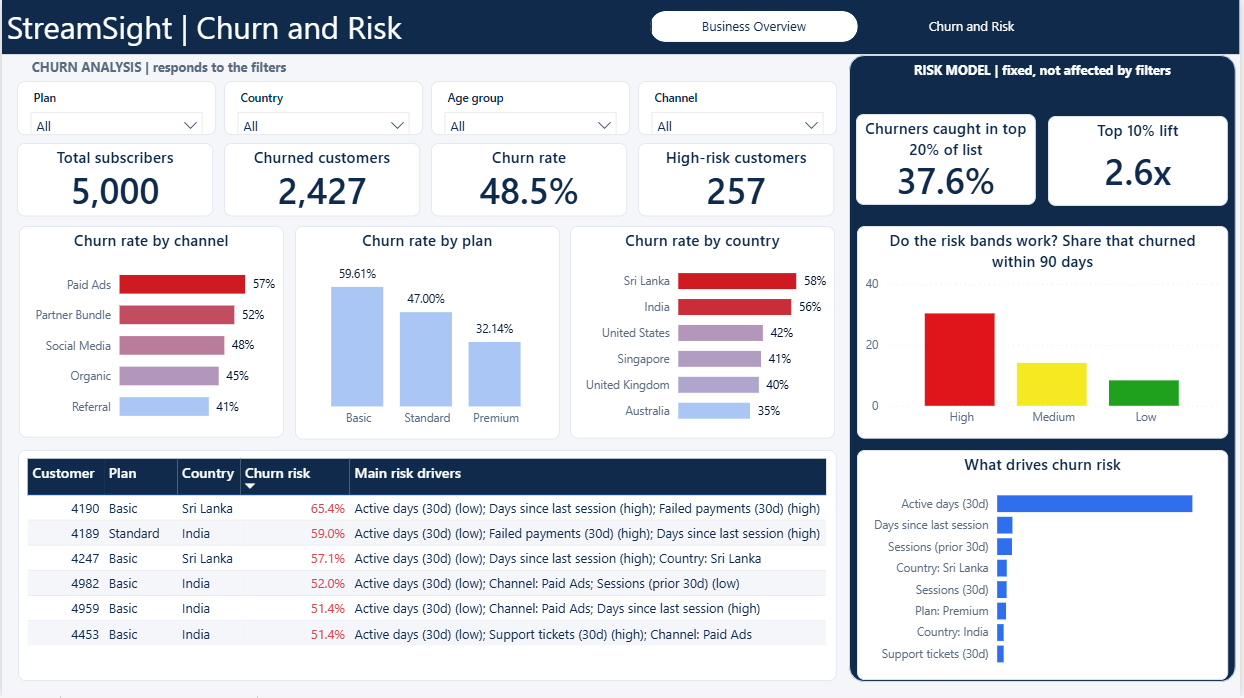

The page's visual inventory and layout, read from the dashboard file:
{"tool":"powerbi","page":{"name":"Churn and Risk","canvas":[1280,720],"ordinal":1},"visuals":[{"type":"textbox","box":[0,0,1280,55.7],"z":0},{"type":"shape","box":[875.9,57.2,400.1,648.6],"z":1000},{"type":"pageNavigator","box":[670,11.4,440,32.9],"z":2000},{"type":"textbox","box":[25.7,55.7,300,32.9],"z":3000},{"type":"textbox","box":[875.7,58.6,400,32.9],"z":4000},{"type":"slicer","fields":{"Values":["vw_subscriber_base.plan_name"]},"box":[16,84,206,56],"z":5000},{"type":"slicer","fields":{"Values":["vw_subscriber_base.country"]},"box":[230,84,206,56],"z":6000},{"type":"slicer","fields":{"Values":["vw_subscriber_base.age_group"]},"box":[444,84,206,56],"z":7000},{"type":"slicer","fields":{"Values":["vw_subscriber_base.acquisition"]},"box":[658,84,206,56],"z":8000},{"type":"card","title":"Total subscribers","fields":{"Values":["vw_subscriber_base.Total Subscribers"]},"box":[16,148,203,76],"z":9000},{"type":"card","title":"Churned customers","fields":{"Values":["vw_subscriber_base.Churned Customers"]},"box":[229.9,148,203,76],"z":10000},{"type":"card","title":"Churn rate","fields":{"Values":["vw_subscriber_base.Churn Rate"]},"box":[443.9,148,203,76],"z":11000},{"type":"card","title":"High-risk customers","fields":{"Values":["vw_churn_risk.High Risk Customers"]},"box":[657.9,148,203,76],"z":12000},{"type":"card","title":"Churners caught in top 20% of list","fields":{"Values":["Sum(vw_model_metrics_latest.recall_top20)"]},"box":[883.9,118.3,186.1,94.4],"z":13000},{"type":"card","title":"Top 10% lift","fields":{"Values":["Sum(vw_model_metrics_latest.lift_top10)"]},"box":[1082,119.6,186.1,93],"z":14000},{"type":"clusteredColumnChart","title":"Churn rate by plan","fields":{"Category":["vw_subscriber_base.plan_name"],"Y":["vw_subscriber_base.Churn Rate"]},"box":[303.1,233.9,273.8,220.6],"z":15000},{"type":"clusteredBarChart","title":"Churn rate by country","fields":{"Category":["vw_subscriber_base.country"],"Y":["vw_subscriber_base.Churn Rate"]},"box":[588,234,274,220],"z":16000},{"type":"tableEx","fields":{"Values":["vw_churn_risk.subscriber_id","vw_churn_risk.plan_name","vw_churn_risk.country","vw_churn_risk.churn_probability","vw_churn_risk.top_drivers"]},"box":[16.8,465.3,846.6,238.5],"z":17000},{"type":"clusteredBarChart","title":"Churn rate by channel","fields":{"Y":["vw_subscriber_base.Churn Rate"],"Category":["vw_subscriber_base.acquisition"]},"box":[17.3,233.9,273.8,219.3],"z":18000},{"type":"clusteredColumnChart","title":"Do the risk bands work? Share that churned within 90 days","fields":{"Category":["vw_band_performance_latest.risk_band"],"Y":["Sum(vw_band_performance_latest.actual_churn_pct)"]},"box":[884,234,384,220],"z":18001},{"type":"clusteredBarChart","title":"What drives churn risk","fields":{"Category":["vw_feature_importance_latest.readable_name"],"Y":["Sum(vw_feature_importance_latest.auc_drop)"]},"box":[884,466,384,238],"z":18002}]}

Visuals, with their boxes in screenshot pixels (x1, y1, x2, y2), scaled from the page's 1280x720 canvas onto the 1244x698 screenshot:
textbox: 0 0 1243 54
shape: 851 55 1240 684
pageNavigator: 651 11 1079 43
textbox: 25 54 317 86
textbox: 851 57 1240 89
slicer - vw_subscriber_base.plan_name: 16 81 216 136
slicer - vw_subscriber_base.country: 224 81 424 136
slicer - vw_subscriber_base.age_group: 432 81 632 136
slicer - vw_subscriber_base.acquisition: 639 81 840 136
"Total subscribers" card: 16 143 213 217
"Churned customers" card: 223 143 421 217
"Churn rate" card: 431 143 629 217
"High-risk customers" card: 639 143 837 217
"Churners caught in top 20% of list" card: 859 115 1040 206
"Top 10% lift" card: 1052 116 1232 206
"Churn rate by plan" clusteredColumnChart: 295 227 561 441
"Churn rate by country" clusteredBarChart: 571 227 838 440
tableEx - vw_churn_risk.subscriber_id x vw_churn_risk.plan_name: 16 451 839 682
"Churn rate by channel" clusteredBarChart: 17 227 283 439
"Do the risk bands work? Share that churned within 90 days" clusteredColumnChart: 859 227 1232 440
"What drives churn risk" clusteredBarChart: 859 452 1232 682
